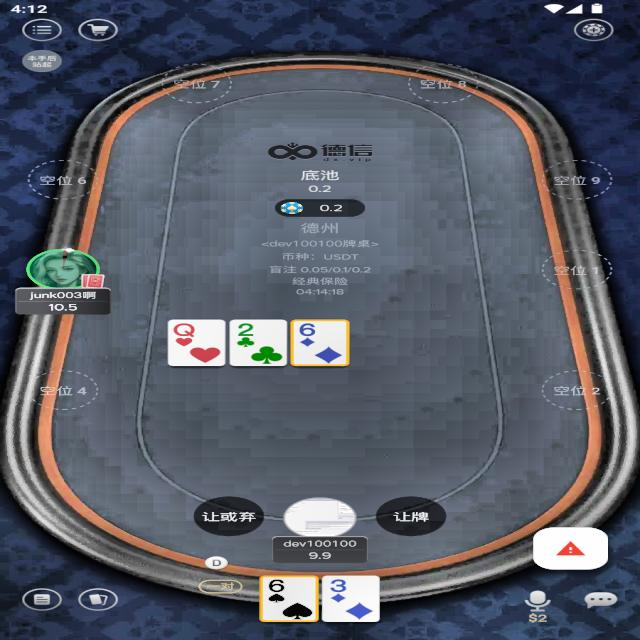2m: (232, 322, 258, 338)
3f: (326, 577, 351, 594)
6f: (296, 322, 320, 338)
6s: (265, 578, 287, 593)
Qh: (172, 320, 198, 337)
